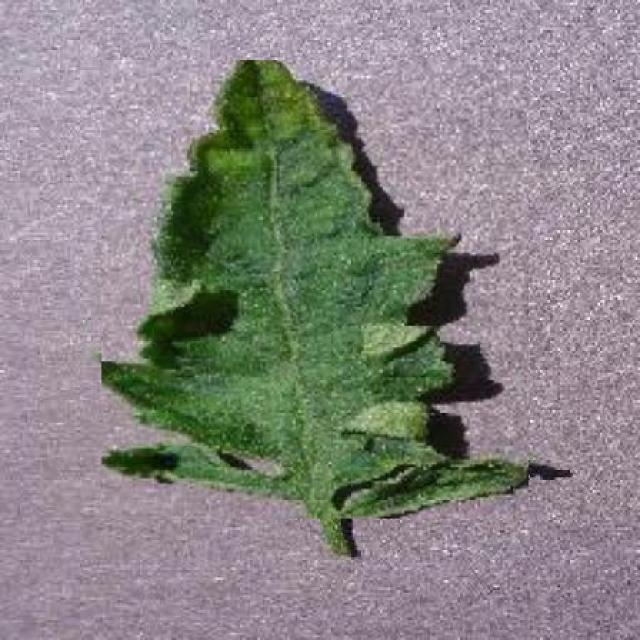Mosaic Virus: (101, 60, 528, 519)
